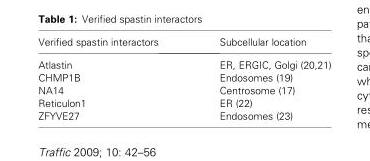table: (37, 37, 330, 121)
table column: (37, 37, 188, 121), (188, 37, 330, 121)
table column header: (37, 37, 330, 53)
table row: (37, 53, 330, 71), (37, 37, 330, 53), (37, 71, 330, 84), (37, 84, 330, 97), (37, 97, 330, 109), (37, 109, 330, 121)
